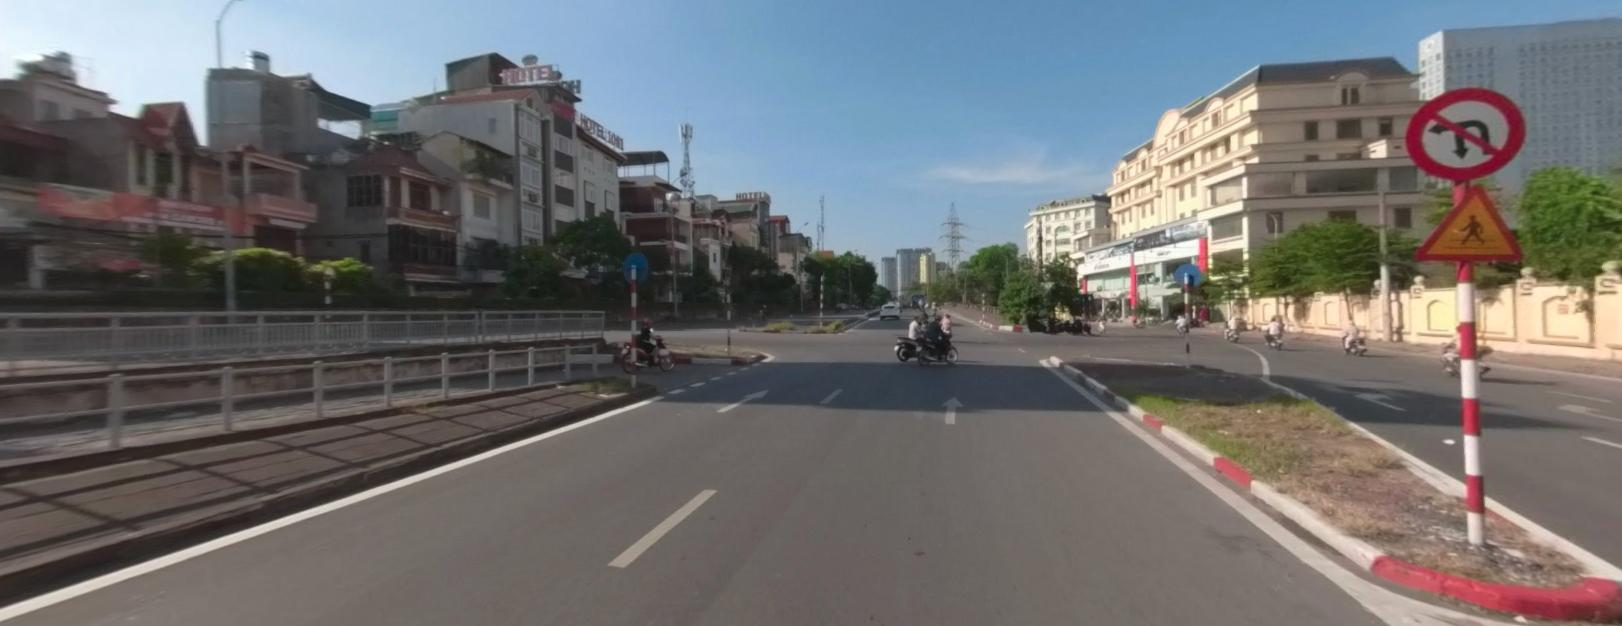Cam re: (1403, 84, 1529, 178)
Nguy hiem: (1410, 182, 1525, 264)
